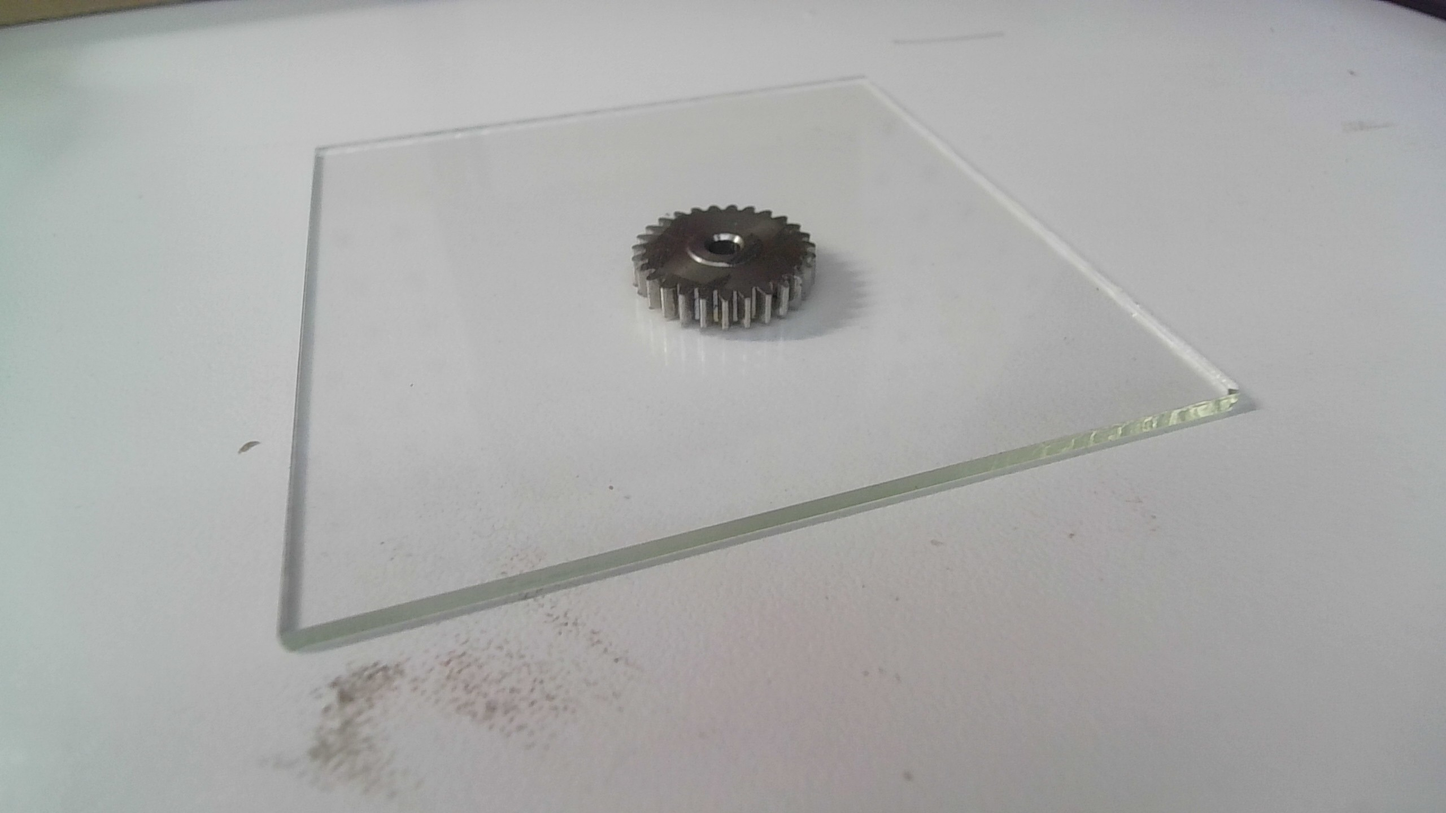gear: (628, 203, 824, 335)
